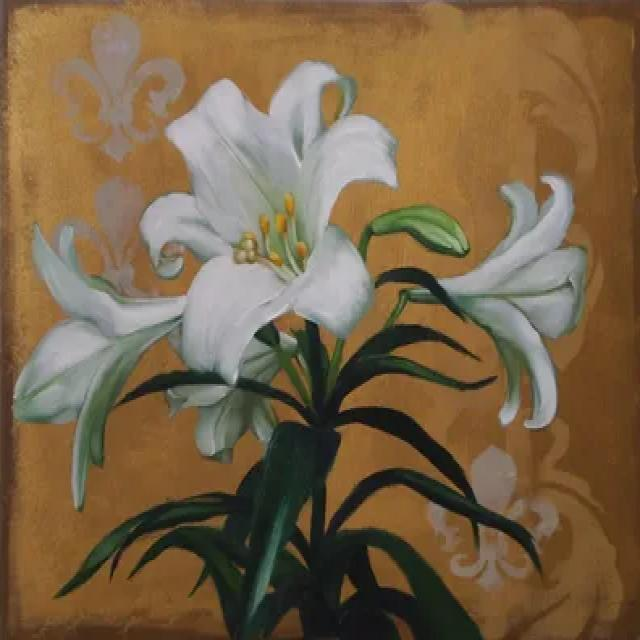lily: (129, 52, 410, 398), (438, 148, 601, 438)
